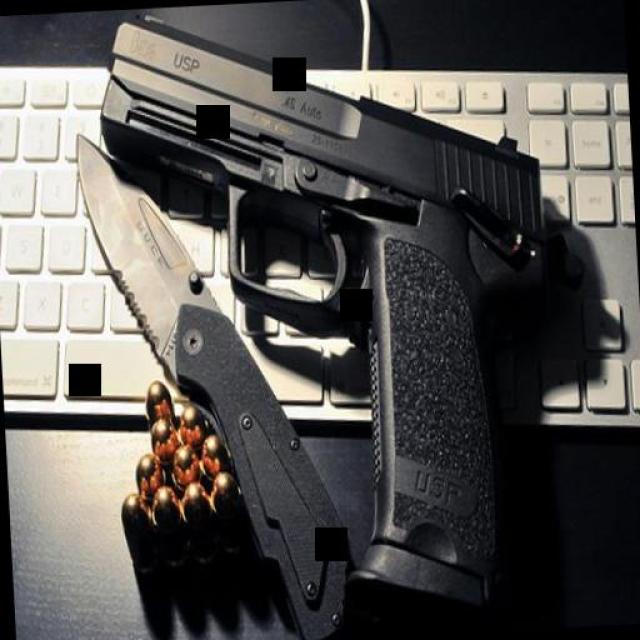gun: (87, 0, 564, 626)
